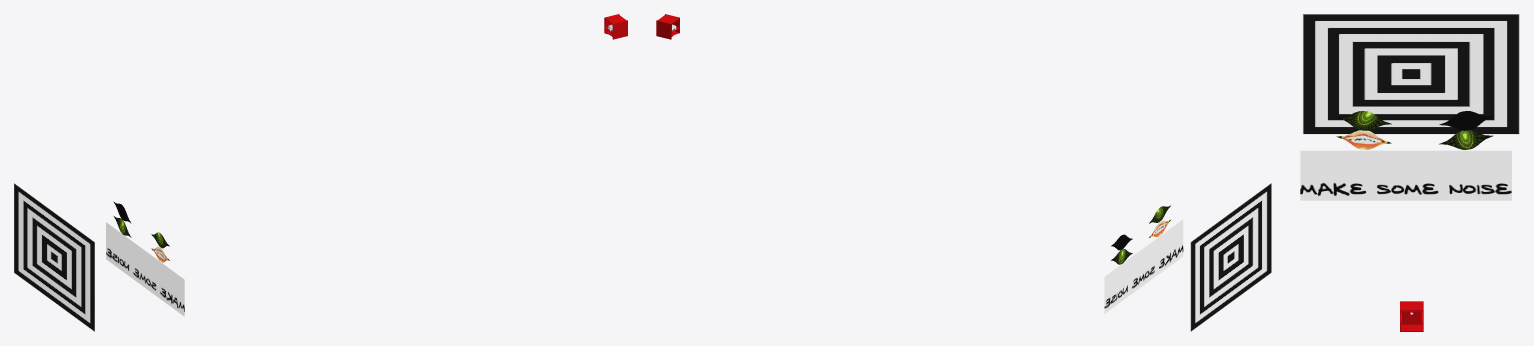
3 renders of one model, left to right at view 1: azimuth 30°, elevation 25°; view 2: azimuth 150°, elevation 25°; view 3: azimuth 270°, elevation 25°, orthographic. The views are drawn at different scales.
Visible parts, largest first — view 1: toile ar, toile av, cage proj; view 2: toile ar, toile av, cage proj; view 3: toile ar, toile av, cage proj, eyeg.002, eyeg.003, eyeg.004, eyeg.001.
Part boxes in pixels (box(x1,y1,x2,y2)): toile ar: box(14, 183, 94, 331); toile av: box(106, 222, 184, 316); cage proj: box(604, 14, 627, 39); toile ar: box(1190, 183, 1271, 331); toile av: box(1104, 219, 1183, 313); cage proj: box(656, 14, 679, 39); toile ar: box(1302, 14, 1519, 134); toile av: box(1300, 150, 1511, 200); cage proj: box(1400, 301, 1423, 331); eyeg.002: box(1336, 130, 1391, 149); eyeg.003: box(1337, 111, 1391, 130); eyeg.004: box(1439, 111, 1493, 130); eyeg.001: box(1439, 130, 1493, 149).
Bounding box in the file's own units: 4.4 × 1.12 × 1.1.
Materials: 8 (5 with a texture image).
